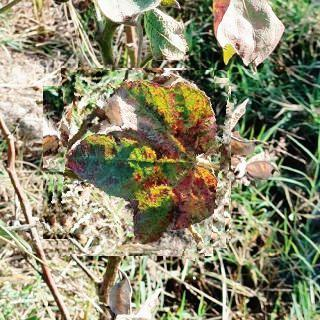blight: (45, 70, 229, 255)
